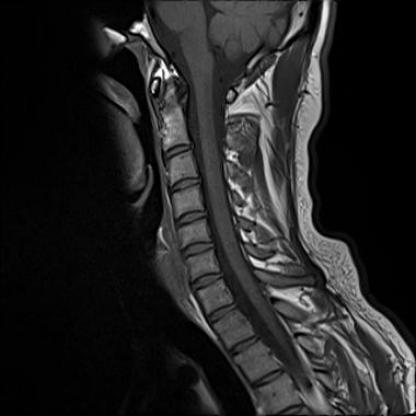Degenerative Disc Diseaserotation: (181, 240, 217, 257)
Disc Bulgerotation: (181, 240, 216, 257)
